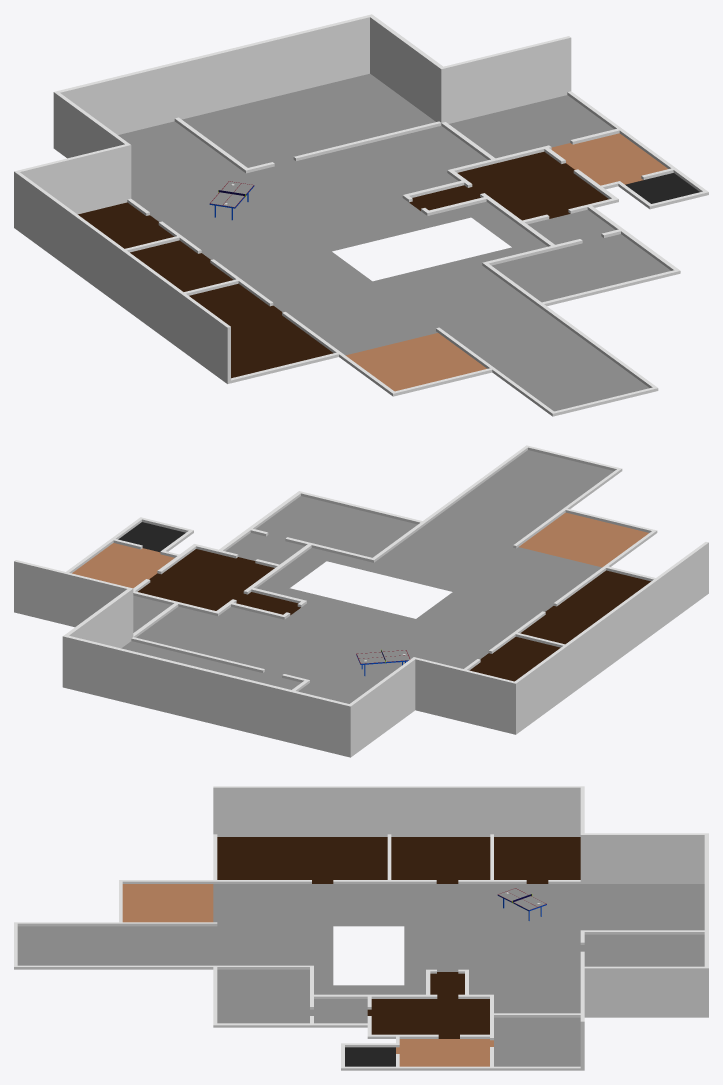
Rendered from Salle_014.FBX.
3 views of the same model, one above another, from view 1: azimuth 30°, elevation 25°; view 2: azimuth 150°, elevation 25°; view 3: azimuth 270°, elevation 25° (orthographic). The views are drawn at different scales.
Visible parts, largest first — view 1: Piece_012, Table_PingPong; view 2: Piece_012, Table_PingPong; view 3: Piece_012, Table_PingPong.
Part boxes in pixels (x1,y1,x2,y2): Piece_012: (14,14,708,416); Table_PingPong: (209,181,254,220); Piece_012: (14,445,708,757); Table_PingPong: (356,649,410,675); Piece_012: (14,786,708,1070); Table_PingPong: (497,888,546,920).
Bounding box in the file's own units: 3085 × 300 × 3847.
